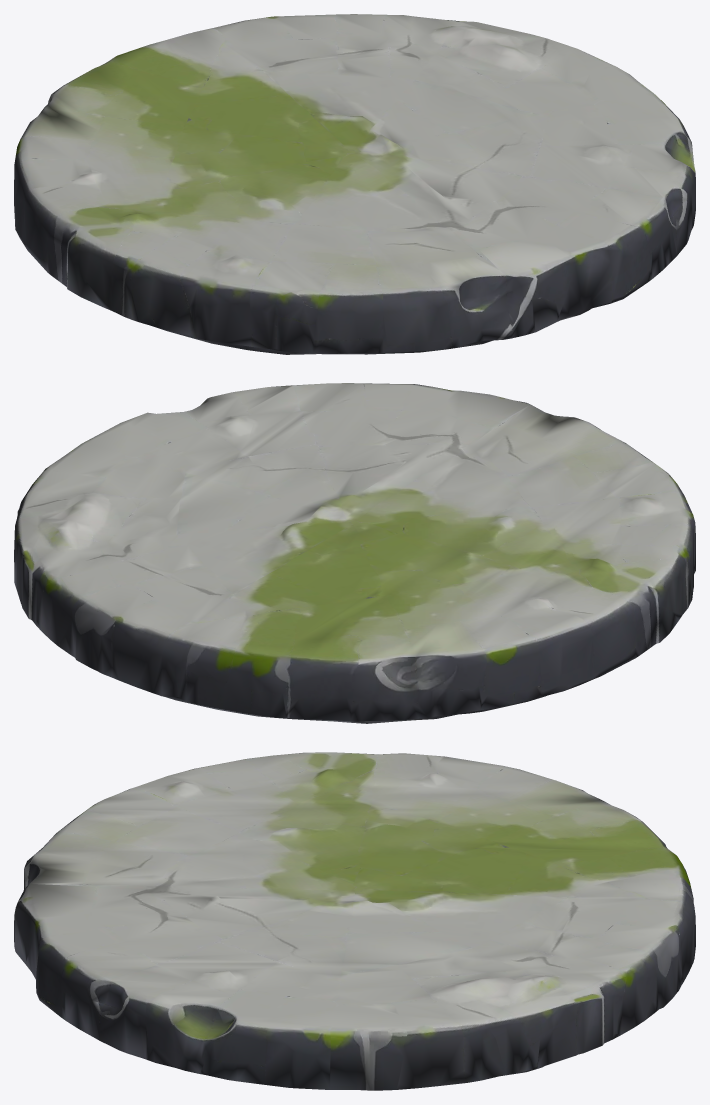
File: stepping-stone.glb
The picture shows the model from 3 angles, top to bottom: view 1: azimuth 30°, elevation 25°; view 2: azimuth 150°, elevation 25°; view 3: azimuth 270°, elevation 25°; orthographic projection.
Bounding box in the file's own units: 1.9 × 0.2479 × 1.9.
1 material, 1 textured.
